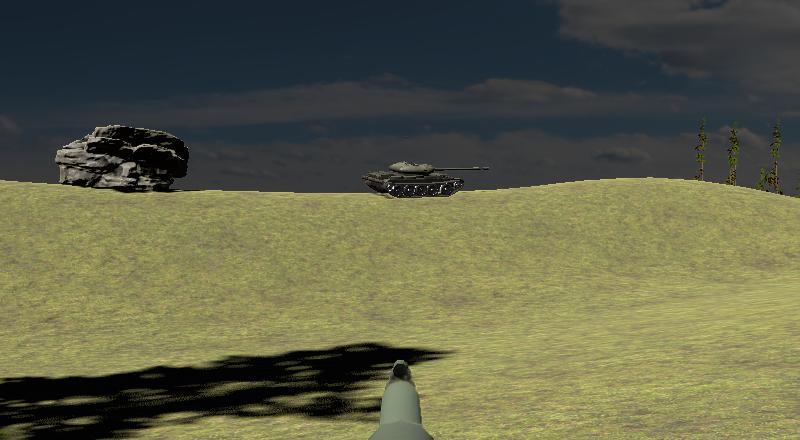Tank: (359, 155, 493, 203)
